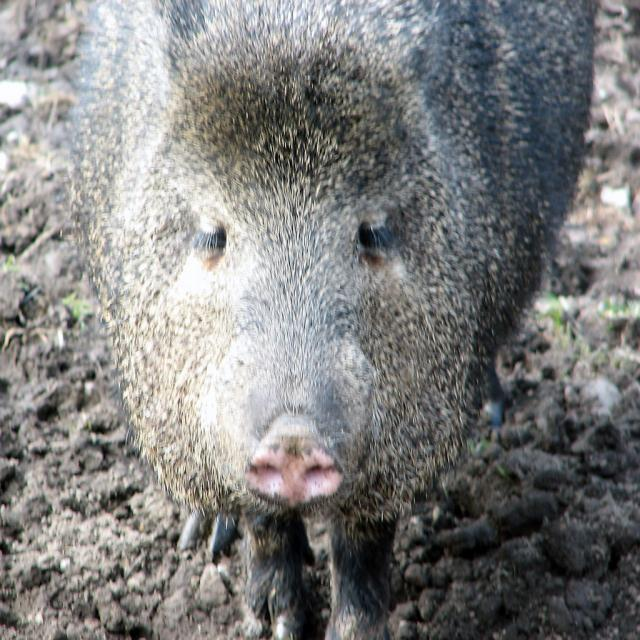Pig: (54, 0, 603, 640)
